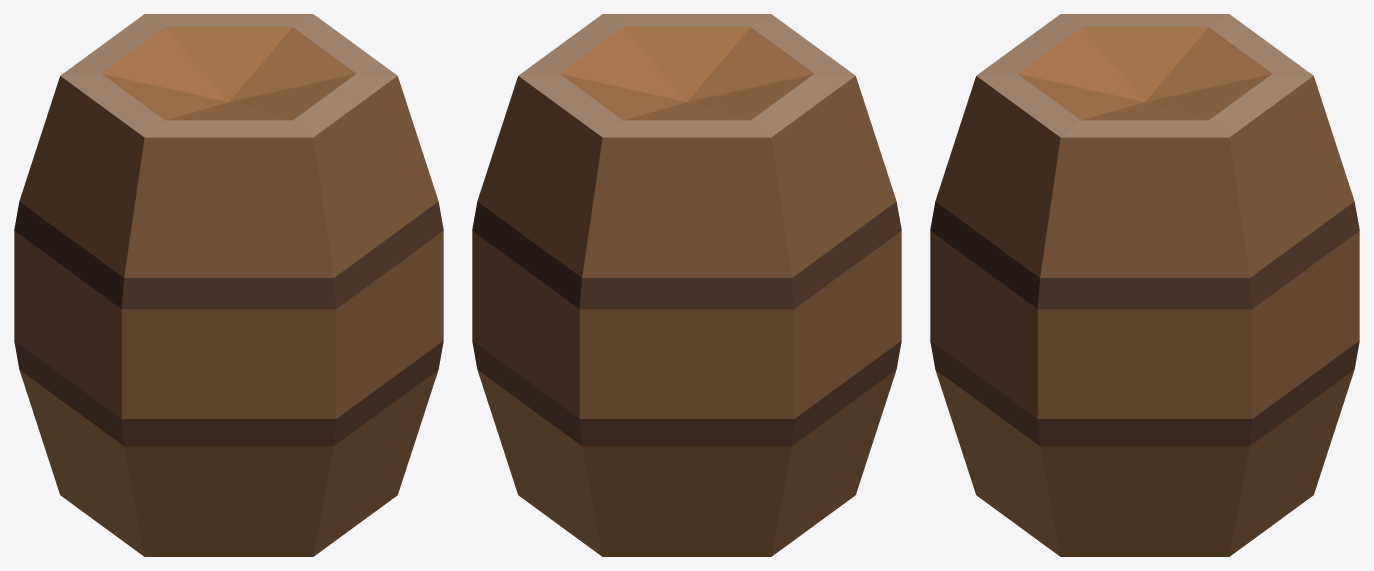
File: TB_D_Prop_Barrel_B.FBX
The picture shows the model from 3 angles, left to right: view 1: azimuth 30°, elevation 25°; view 2: azimuth 150°, elevation 25°; view 3: azimuth 270°, elevation 25°; orthographic projection.
Parts seen in each view (by area): view 1: TB_D_Prop_Barrel_B; view 2: TB_D_Prop_Barrel_B; view 3: TB_D_Prop_Barrel_B.
Part boxes in pixels (box(x1,y1,x2,y2)): TB_D_Prop_Barrel_B: box(14, 14, 443, 556); TB_D_Prop_Barrel_B: box(472, 14, 901, 556); TB_D_Prop_Barrel_B: box(930, 14, 1359, 556).
Bounding box in the file's own units: 0.9026 × 1.13 × 1.04.
